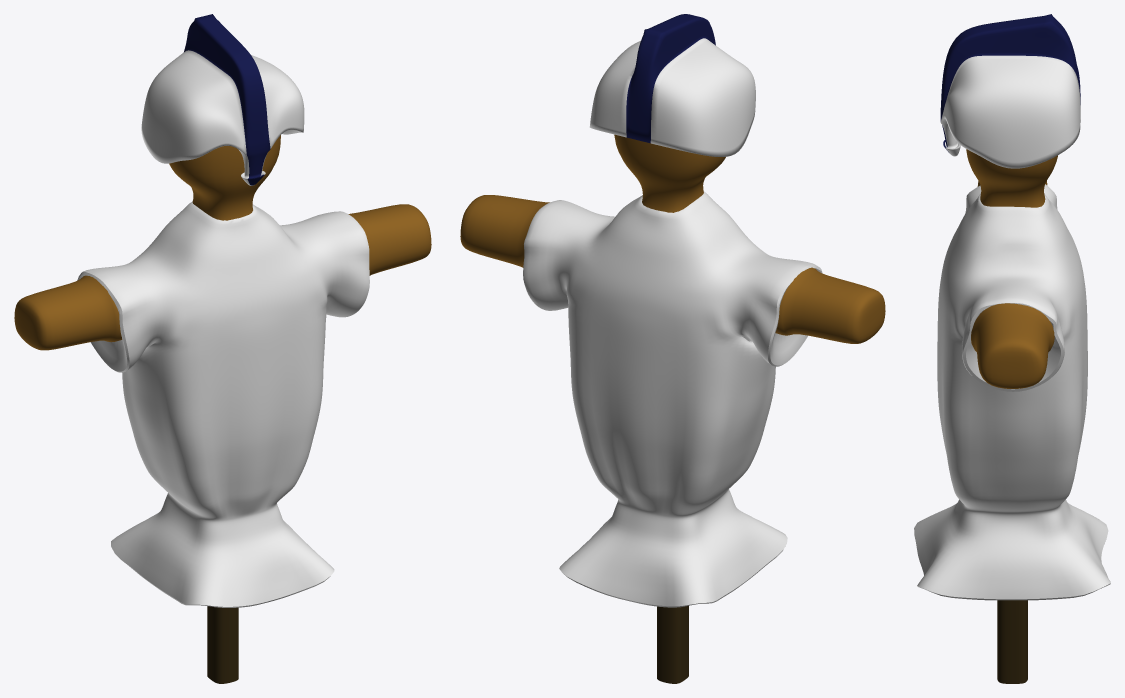
Rendered from Trainingspuppe2.0.fbx.
3 views of the same model, side by side, from view 1: azimuth 30°, elevation 25°; view 2: azimuth 150°, elevation 25°; view 3: azimuth 270°, elevation 25° (orthographic).
Parts seen in each view (by area): view 1: Cube.001, Cube.003, Cube, Cube.004; view 2: Cube.001, Cube.003, Cube, Cube.004; view 3: Cube.001, Cube.003, Cube, Cube.004.
Boxes of the visible parts, x1,y1,x2,y2 form: Cube.001: (77, 201, 369, 607); Cube.003: (141, 14, 304, 185); Cube: (14, 135, 431, 350); Cube.004: (207, 606, 238, 683); Cube.001: (523, 191, 822, 607); Cube.003: (589, 14, 755, 156); Cube: (460, 134, 885, 343); Cube.004: (657, 605, 688, 683); Cube.001: (914, 184, 1110, 600); Cube.003: (940, 14, 1080, 168); Cube: (966, 149, 1057, 388); Cube.004: (997, 600, 1027, 683).
Size of the model in its own units: 878 by 1377 by 372.
